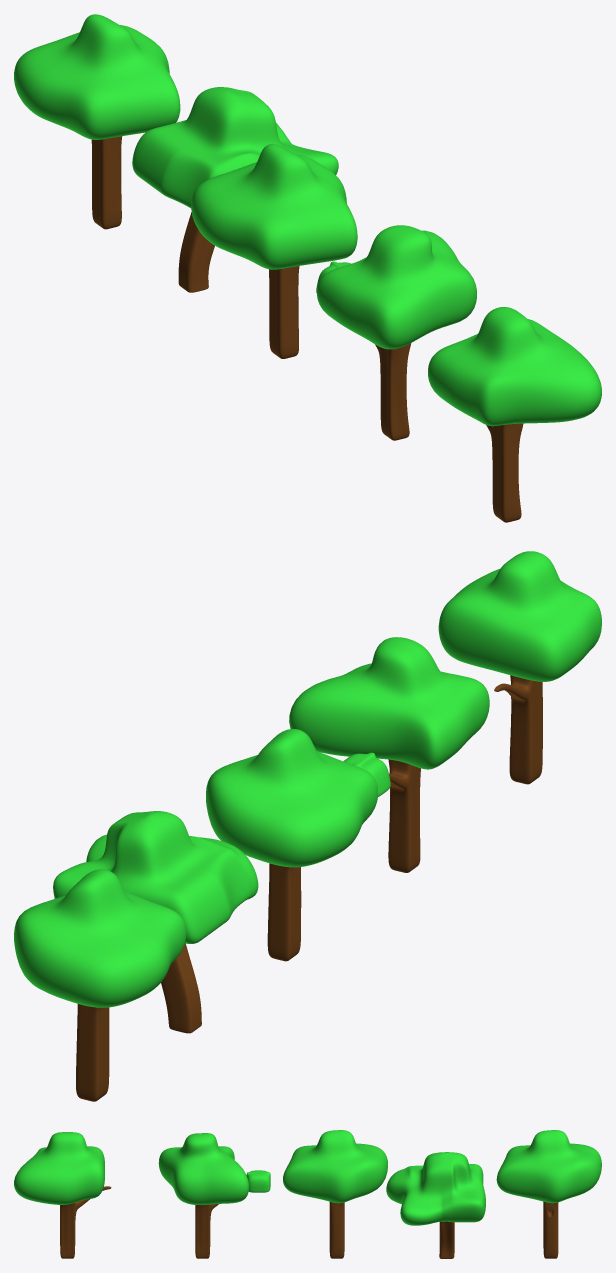
Rendered from chéne.glb.
The picture shows the model from 3 angles, top to bottom: view 1: azimuth 30°, elevation 25°; view 2: azimuth 150°, elevation 25°; view 3: azimuth 270°, elevation 25°; orthographic projection. The views are drawn at different scales.
Parts seen in each view (by area): view 1: Cube.002, Cube.004, Cube, Cube.001, Cube.003; view 2: Cube.001, Cube.004, Cube.002, Cube, Cube.003; view 3: Cube.004, Cube.002, Cube.003, Cube.001, Cube.
Part boxes in pixels (x1,y1,x2,y2): Cube.002: [191, 144, 357, 358]; Cube.004: [14, 14, 180, 229]; Cube: [428, 307, 601, 522]; Cube.001: [316, 225, 476, 440]; Cube.003: [132, 87, 338, 292]; Cube.001: [289, 637, 489, 872]; Cube.004: [14, 869, 186, 1101]; Cube.002: [206, 729, 377, 961]; Cube: [438, 551, 601, 784]; Cube.003: [53, 811, 258, 1033]; Cube.004: [496, 1130, 601, 1258]; Cube.002: [283, 1130, 387, 1258]; Cube.003: [386, 1152, 485, 1258]; Cube.001: [158, 1133, 270, 1258]; Cube: [14, 1132, 111, 1258].
Size of the model in its own units: 4.56 by 4.86 by 20.81.
